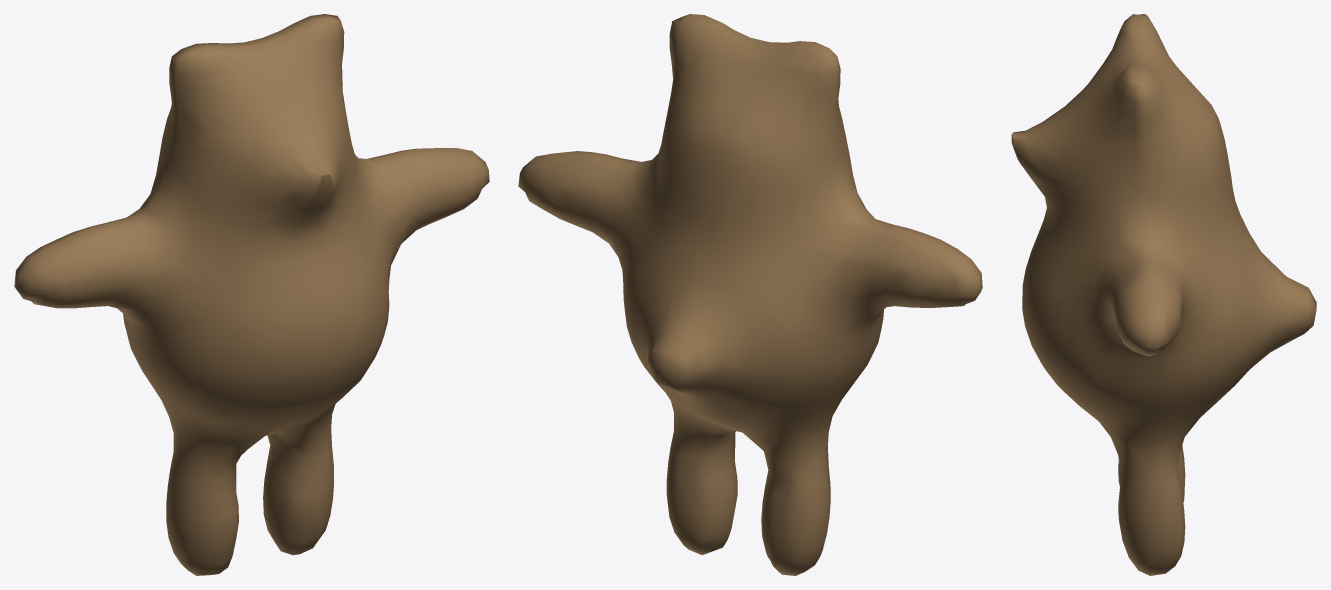
The model's file is IzzyBEAR.fbx.
The picture shows the model from 3 angles, left to right: view 1: azimuth 30°, elevation 25°; view 2: azimuth 150°, elevation 25°; view 3: azimuth 270°, elevation 25°; orthographic projection. The views are drawn at different scales.
Visible parts, largest first — view 1: polySurface5; view 2: polySurface5; view 3: polySurface5.
Boxes of the visible parts, x1,y1,x2,y2 form: polySurface5: (14,14,489,575); polySurface5: (518,14,982,575); polySurface5: (1011,14,1316,575).
Size of the model in its own units: 8.94 by 9.75 by 5.31.
